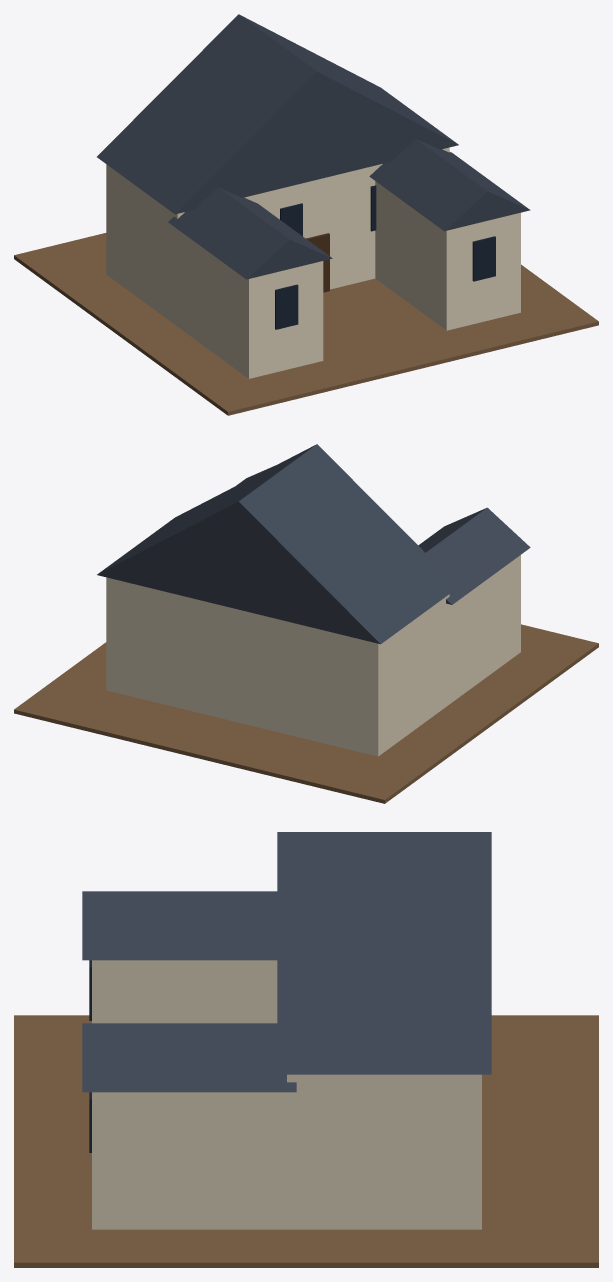
File: bld_special_hospital_a03_lod1.glb
The picture shows the model from 3 angles, top to bottom: view 1: azimuth 30°, elevation 25°; view 2: azimuth 150°, elevation 25°; view 3: azimuth 270°, elevation 25°; orthographic projection. The views are drawn at different scales.
Visible parts, largest first — view 1: body; view 2: body; view 3: body.
Part boxes in pixels (bbox=[...]): body: bbox=[14, 14, 598, 415]; body: bbox=[14, 444, 598, 803]; body: bbox=[14, 832, 598, 1267].
Size of the model in its own units: 15 by 8.83 by 15.
